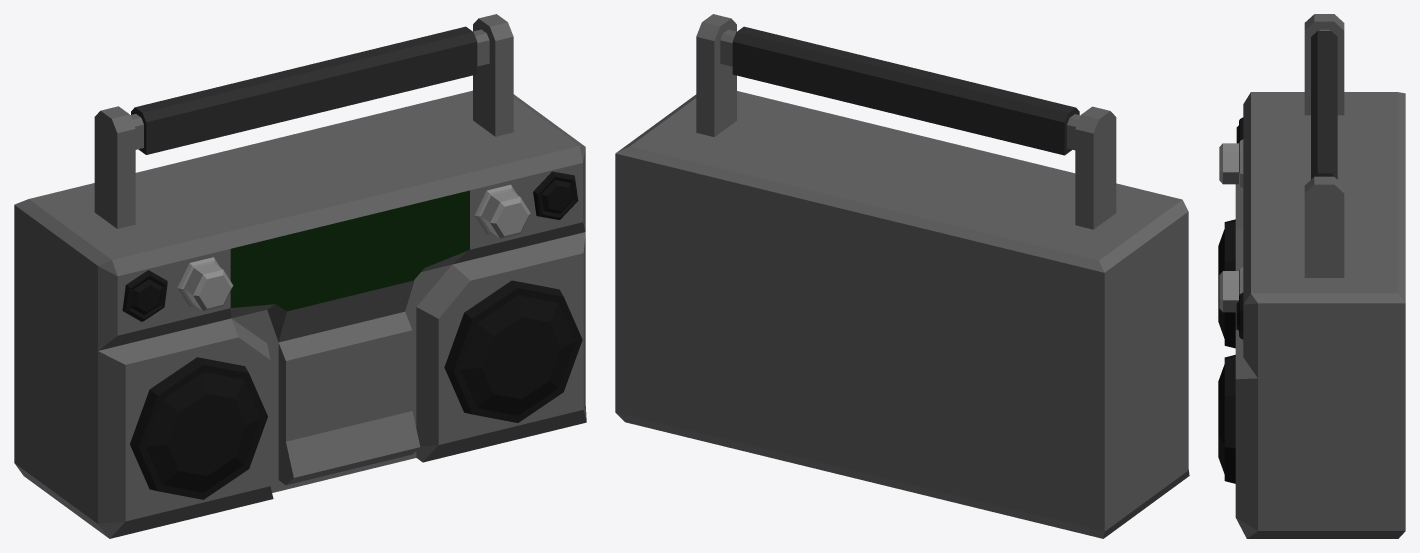
Rendered from BoomBox.fbx.
3 renders of one model, left to right at view 1: azimuth 30°, elevation 25°; view 2: azimuth 150°, elevation 25°; view 3: azimuth 270°, elevation 25°, orthographic. The views are drawn at different scales.
Parts seen in each view (by area): view 1: BoomBox; view 2: BoomBox; view 3: BoomBox.
Part boxes in pixels (x1,y1,x2,y2): BoomBox: (14,14,586,538); BoomBox: (615,14,1189,538); BoomBox: (1218,14,1405,538).
Size of the model in its own units: 17.87 by 13.37 by 6.74.
